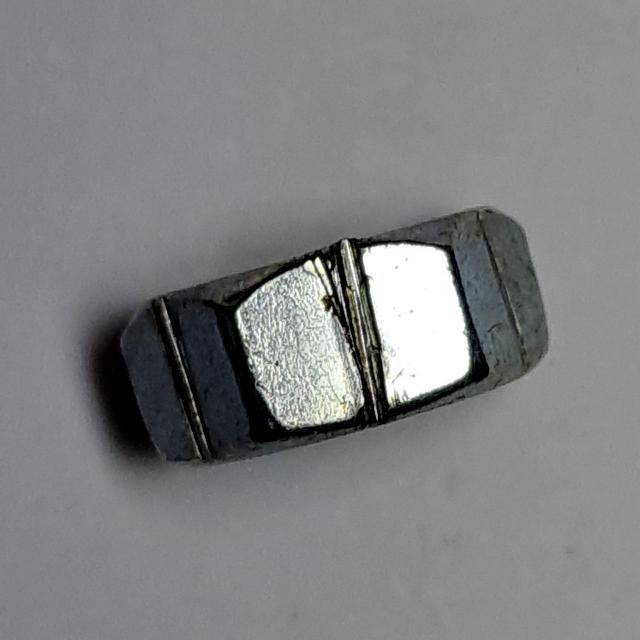Side_Scratches: (108, 188, 558, 480)
